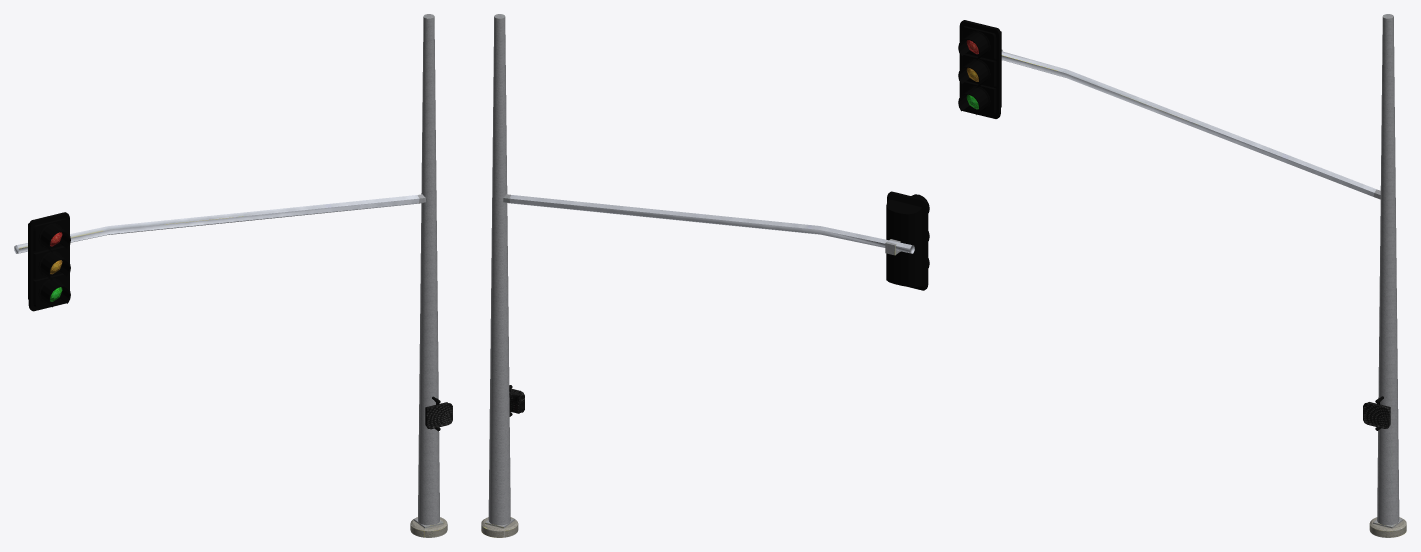
File: ThreeLight.fbx
The picture shows the model from 3 angles, left to right: view 1: azimuth 30°, elevation 25°; view 2: azimuth 150°, elevation 25°; view 3: azimuth 330°, elevation 25°; orthographic projection.
Visible parts, largest first — view 1: TrafficPost, traffic light, Pedestrianlight; view 2: TrafficPost, traffic light; view 3: TrafficPost, traffic light, Pedestrianlight.
Part boxes in pixels (x1,y1,x2,y2): TrafficPost: (14, 14, 447, 537); traffic light: (28, 212, 70, 311); Pedestrianlight: (425, 396, 452, 431); TrafficPost: (481, 14, 914, 537); traffic light: (886, 191, 929, 290); TrafficPost: (1001, 14, 1406, 537); traffic light: (958, 20, 1001, 118); Pedestrianlight: (1363, 396, 1390, 430).
Bounding box in the file's own units: 669 × 764 × 92.74.
6 materials, 5 textured.
